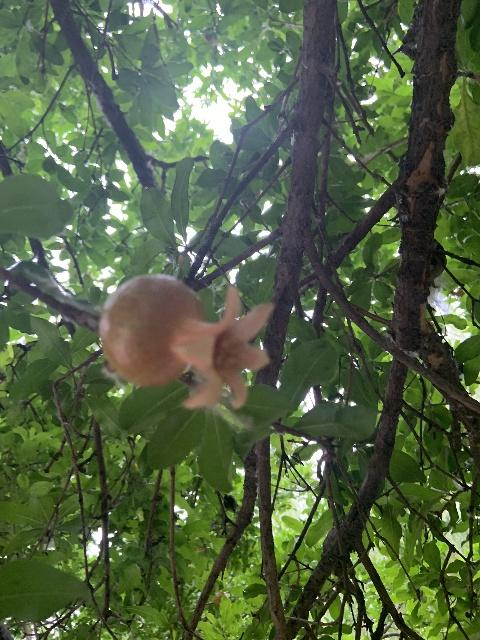early-fruit: (98, 276, 273, 412)
